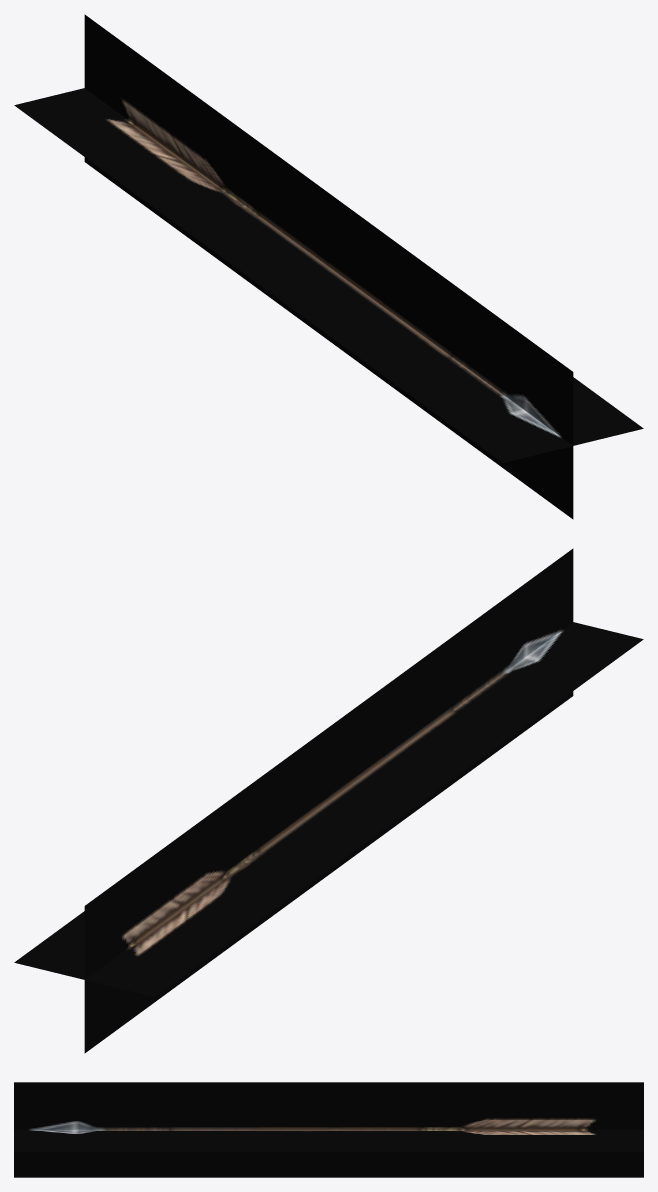
File: jian.FBX
3 views of the same model, one above another, from view 1: azimuth 30°, elevation 25°; view 2: azimuth 150°, elevation 25°; view 3: azimuth 270°, elevation 25° (orthographic). The views are drawn at different scales.
Visible parts, largest first — view 1: Plane01; view 2: Plane01; view 3: Plane01.
Boxes of the visible parts, bbox=[...] form: Plane01: bbox=[14, 14, 643, 519]; Plane01: bbox=[14, 548, 643, 1053]; Plane01: bbox=[14, 1082, 643, 1177].
Bounding box in the file's own units: 0.2 × 1.2 × 0.2.
Materials: 1 (1 with a texture image).
